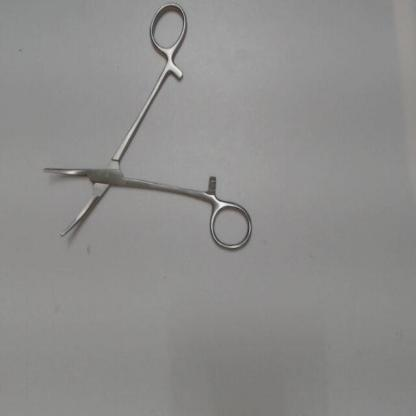Crile Artery Forceps: (35, 0, 256, 257)
